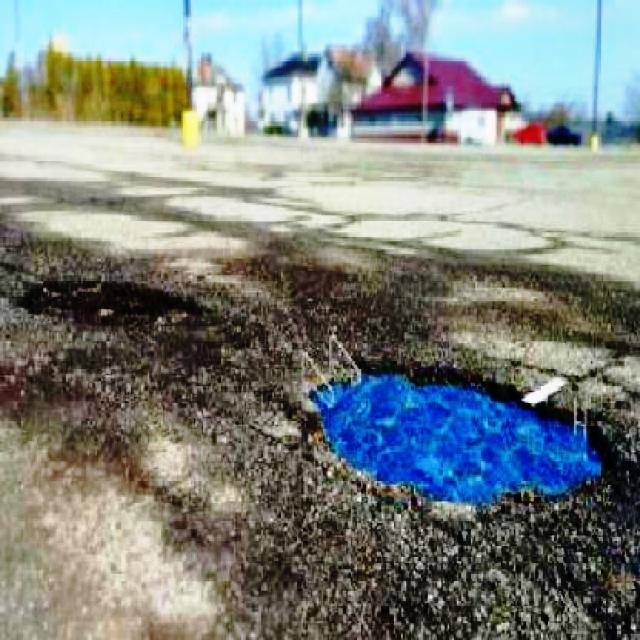pothole: (302, 357, 609, 508), (11, 272, 203, 332)
